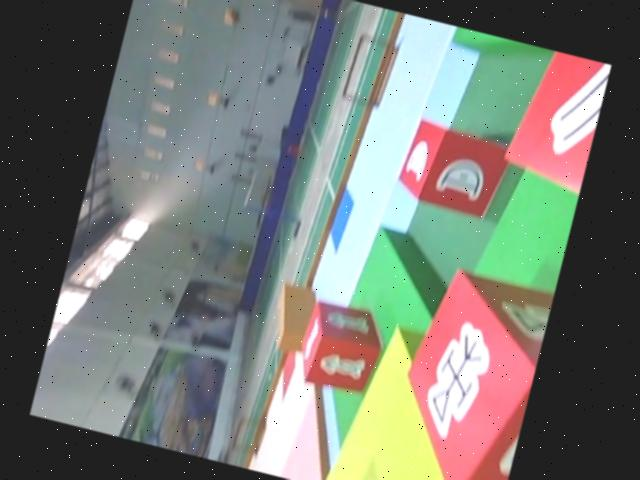R2 Real: (379, 262, 554, 480), (394, 118, 512, 219), (294, 297, 391, 398)
